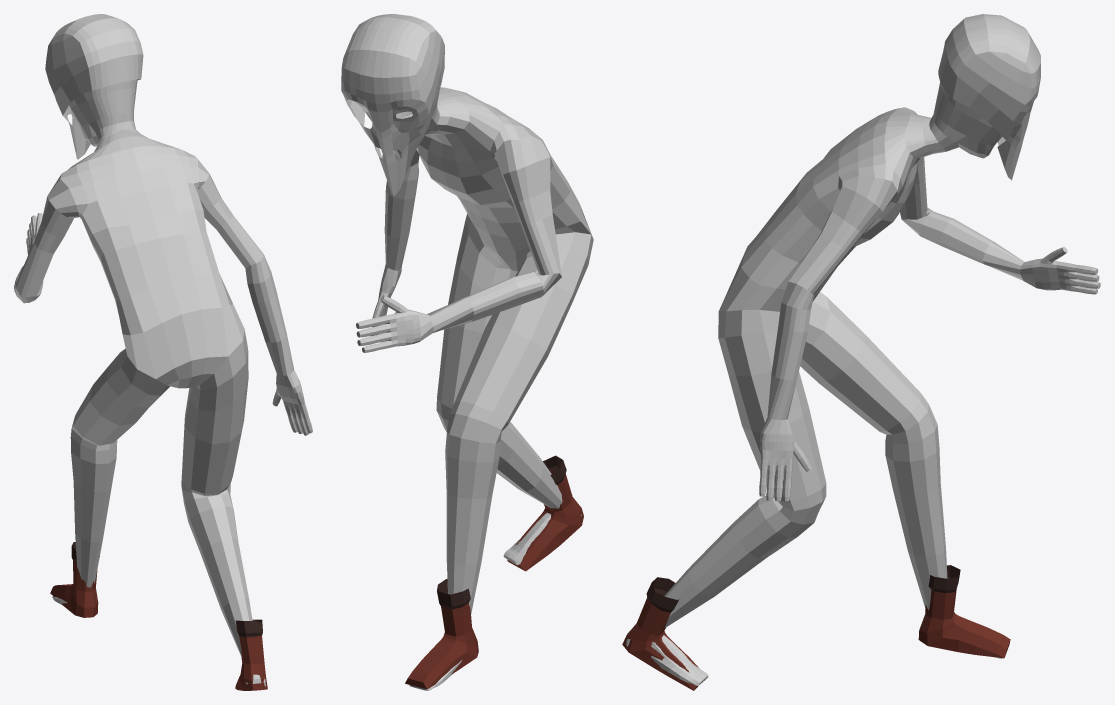
The model's file is saltoadelante_000151.obj.
3 views of the same model, side by side, from view 1: azimuth 30°, elevation 25°; view 2: azimuth 150°, elevation 25°; view 3: azimuth 270°, elevation 25° (orthographic). The views are drawn at different scales.
Parts seen in each view (by area): view 1: Plane.002_Plane.001, Plane.003, Plane.004; view 2: Plane.002_Plane.001, Plane.004, Plane.003; view 3: Plane.002_Plane.001, Plane.004, Plane.003.
Part boxes in pixels (<box>): Plane.002_Plane.001: <box>14,14,312,686</box>; Plane.003: <box>235,619,267,690</box>; Plane.004: <box>50,542,99,617</box>; Plane.002_Plane.001: <box>341,14,593,690</box>; Plane.004: <box>405,579,478,689</box>; Plane.003: <box>507,455,583,571</box>; Plane.002_Plane.001: <box>626,14,1100,685</box>; Plane.004: <box>918,565,1010,658</box>; Plane.003: <box>622,577,698,690</box>.
Bounding box in the file's own units: 2.44 × 5.94 × 3.95.
